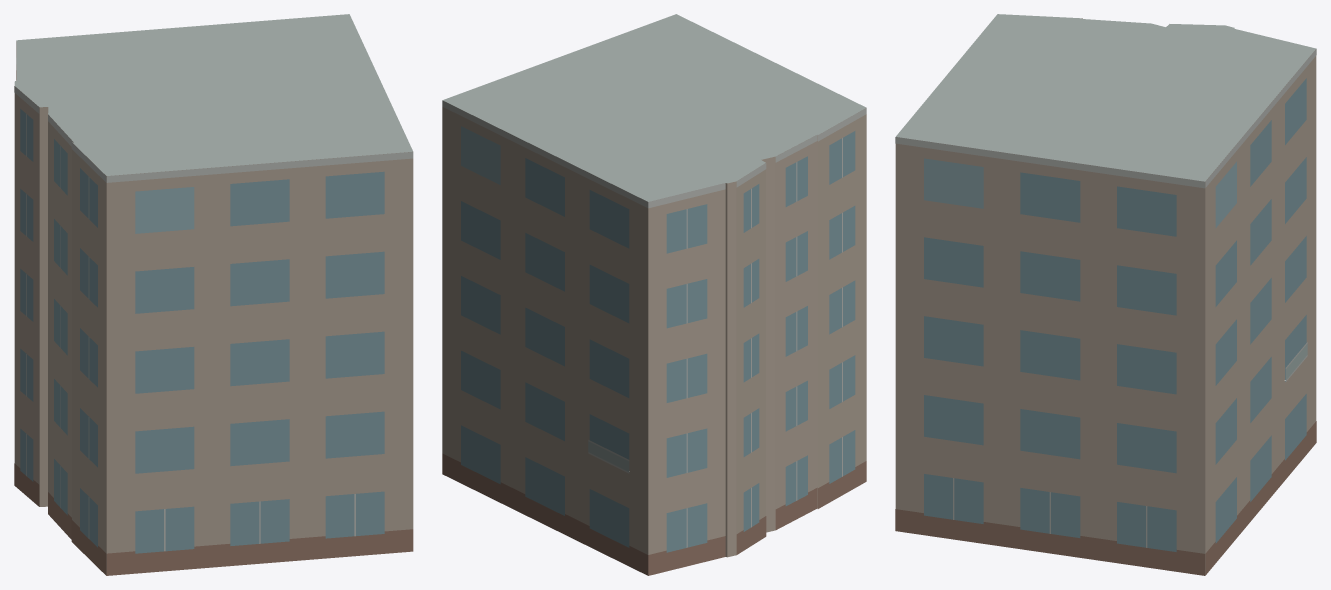
The model's file is survey-upis-32504704.glb.
The picture shows the model from 3 angles, left to right: view 1: azimuth 30°, elevation 25°; view 2: azimuth 150°, elevation 25°; view 3: azimuth 270°, elevation 25°; orthographic projection. The views are drawn at different scales.
Visible parts, largest first — view 1: survey-upis-32504704.tmp; view 2: survey-upis-32504704.tmp; view 3: survey-upis-32504704.tmp.
Boxes of the visible parts, <box> form: survey-upis-32504704.tmp: <box>14,14,413,575</box>; survey-upis-32504704.tmp: <box>442,14,866,575</box>; survey-upis-32504704.tmp: <box>895,14,1316,575</box>.
Size of the model in its own units: 13.05 by 14.3 by 13.85.
